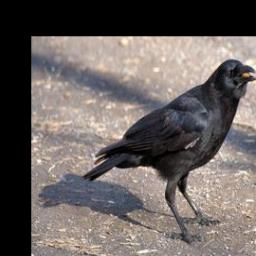Crow: (82, 57, 256, 245)
